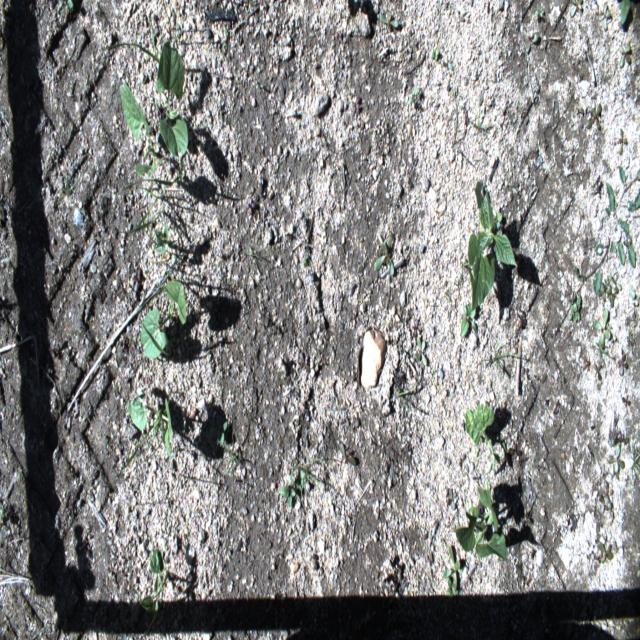crop: (468, 192, 518, 311), (153, 36, 189, 168), (138, 277, 190, 366), (453, 486, 507, 562), (120, 80, 156, 174), (128, 393, 176, 460), (466, 401, 496, 469), (139, 545, 164, 621)
weed: (583, 165, 640, 298), (105, 22, 161, 67), (121, 168, 186, 194), (133, 190, 165, 230), (442, 542, 462, 597), (374, 236, 396, 282), (592, 304, 613, 352), (598, 275, 624, 309), (487, 342, 513, 376), (606, 436, 627, 475), (280, 469, 300, 509), (597, 476, 614, 522), (520, 26, 542, 60), (460, 302, 479, 340), (413, 321, 428, 365), (151, 222, 170, 256), (586, 101, 605, 134), (514, 303, 535, 330), (596, 538, 614, 567), (566, 504, 584, 531), (426, 519, 439, 555), (616, 44, 632, 73), (301, 242, 315, 272), (296, 459, 310, 489), (338, 440, 356, 461), (597, 1, 612, 26), (218, 416, 230, 446), (410, 84, 424, 109), (620, 3, 634, 28), (617, 124, 629, 152), (617, 348, 628, 376), (446, 484, 457, 512), (566, 0, 582, 18), (621, 389, 634, 410), (430, 40, 440, 67), (573, 299, 582, 324), (531, 5, 546, 19), (380, 11, 396, 24), (630, 284, 637, 312), (454, 102, 458, 146)
